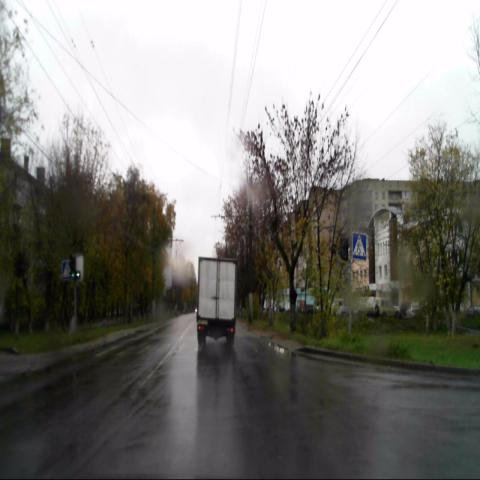5_19_1: (351, 233, 366, 260), (61, 259, 74, 281)
